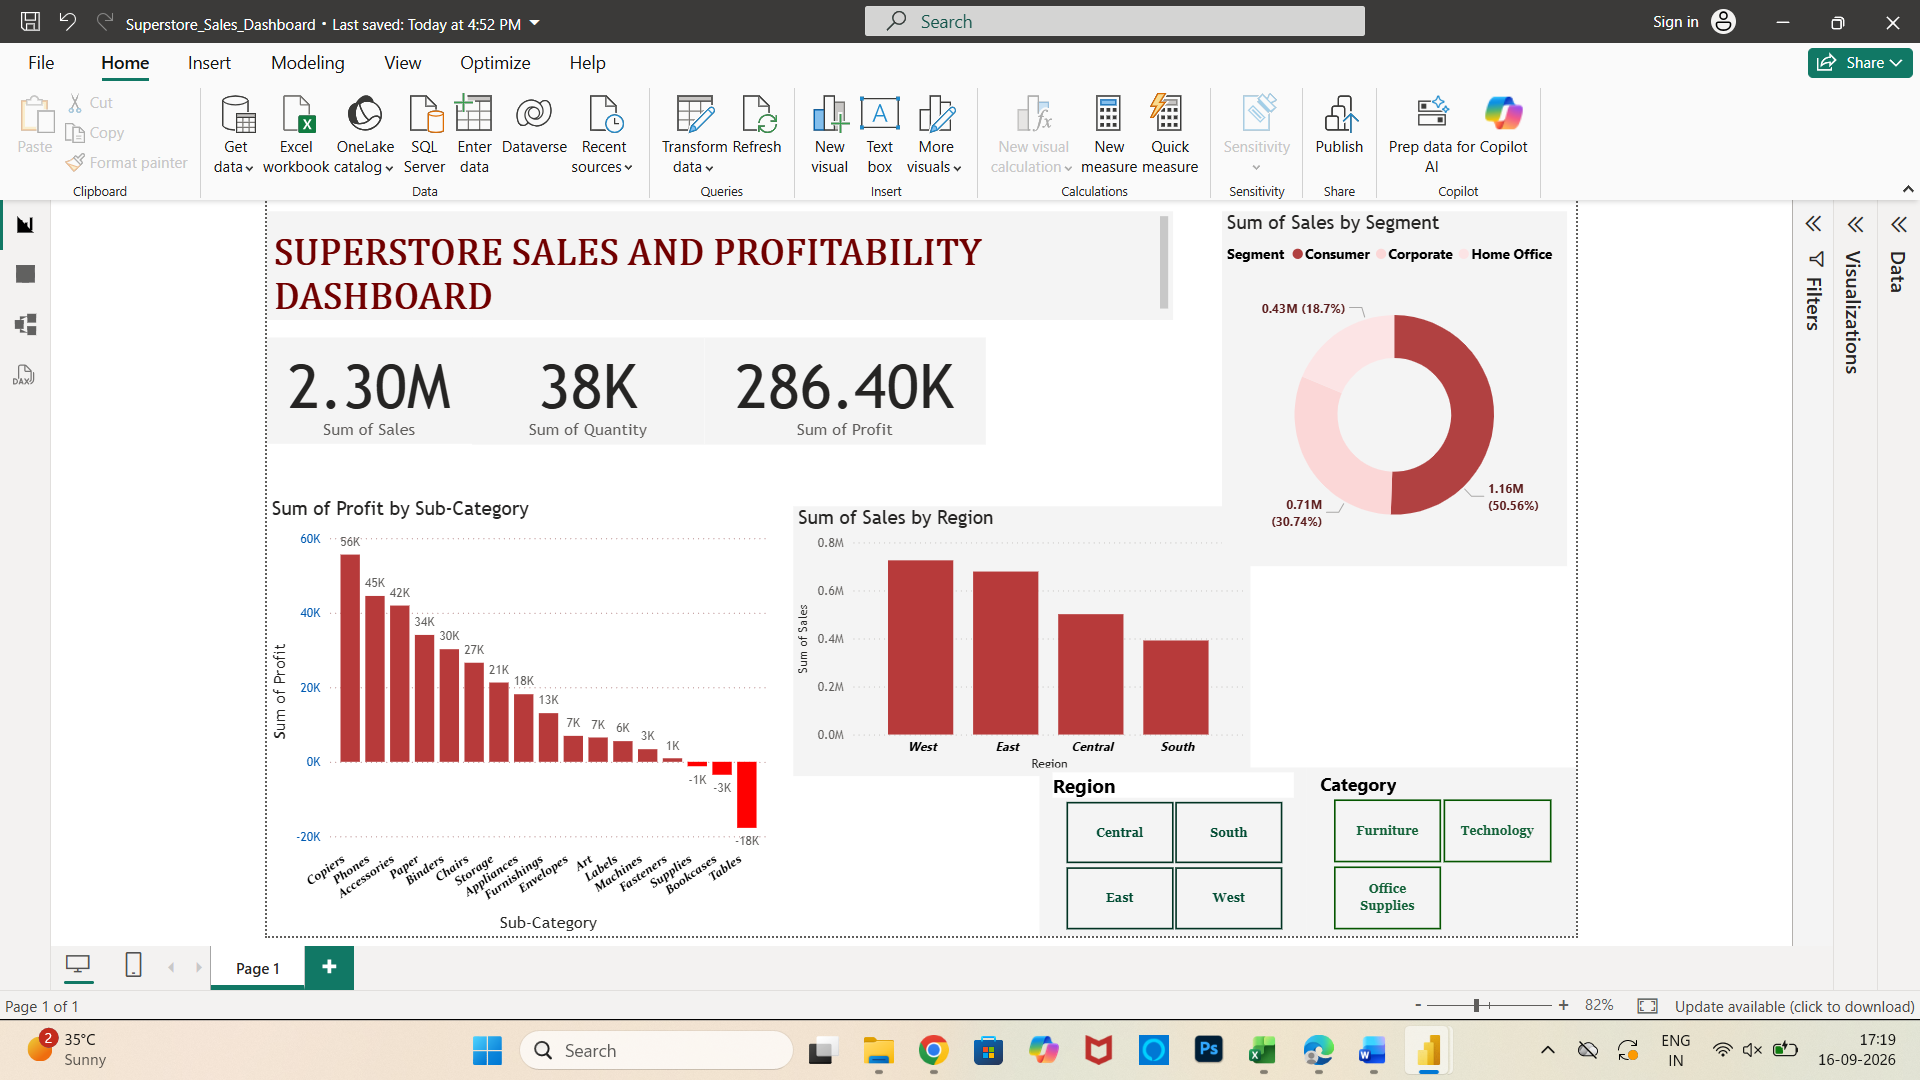

What the dashboard file says about the page in this screenshot:
{"tool":"powerbi","page":{"name":"Page 1","canvas":[1280,720],"ordinal":0},"visuals":[{"type":"card","fields":{"Values":["Sum(SampleSuperstore.Sales)"]},"box":[0,134.5,200.5,103.9],"z":0},{"type":"card","fields":{"Values":["Sum(SampleSuperstore.Quantity)"]},"box":[200.5,134.5,227.4,105.2],"z":1000},{"type":"card","fields":{"Values":["Sum(SampleSuperstore.Profit)"]},"box":[428,134.5,275.1,105.2],"z":2000},{"type":"clusteredColumnChart","fields":{"Category":["SampleSuperstore.Sub-Category"],"Y":["Sum(SampleSuperstore.Profit)"]},"box":[0,291,494,429.2],"z":3000},{"type":"clusteredColumnChart","fields":{"Category":["SampleSuperstore.Region"],"Y":["Sum(SampleSuperstore.Sales)"]},"box":[514.8,299.6,447.6,264.1],"z":4000},{"type":"donutChart","fields":{"Category":["SampleSuperstore.Segment"],"Y":["Sum(SampleSuperstore.Sales)"]},"box":[934.2,11,337.5,347.3],"z":5000},{"type":"slicer","fields":{"Values":["SampleSuperstore.Region"]},"box":[755.7,555.2,261.7,165.1],"z":5001},{"type":"slicer","fields":{"Values":["SampleSuperstore.Category"]},"box":[1017.4,555.2,262.9,165.1],"z":5002},{"type":"textbox","box":[0,11,886.6,106.4],"z":5003}]}

Visuals, with their boxes on the page's 1280x720 design canvas (x1, y1, x2, y2). These are canvas units, not pixel positions in the 1920x1080 screenshot, which may show the page scaled, cropped or inside an application window:
card - Sum(SampleSuperstore.Sales): region(0, 134, 200, 238)
card - Sum(SampleSuperstore.Quantity): region(200, 134, 428, 240)
card - Sum(SampleSuperstore.Profit): region(428, 134, 703, 240)
clusteredColumnChart - SampleSuperstore.Sub-Category x Sum(SampleSuperstore.Profit): region(0, 291, 494, 720)
clusteredColumnChart - SampleSuperstore.Region x Sum(SampleSuperstore.Sales): region(515, 300, 962, 564)
donutChart - SampleSuperstore.Segment x Sum(SampleSuperstore.Sales): region(934, 11, 1272, 358)
slicer - SampleSuperstore.Region: region(756, 555, 1017, 720)
slicer - SampleSuperstore.Category: region(1017, 555, 1280, 720)
textbox: region(0, 11, 887, 117)
